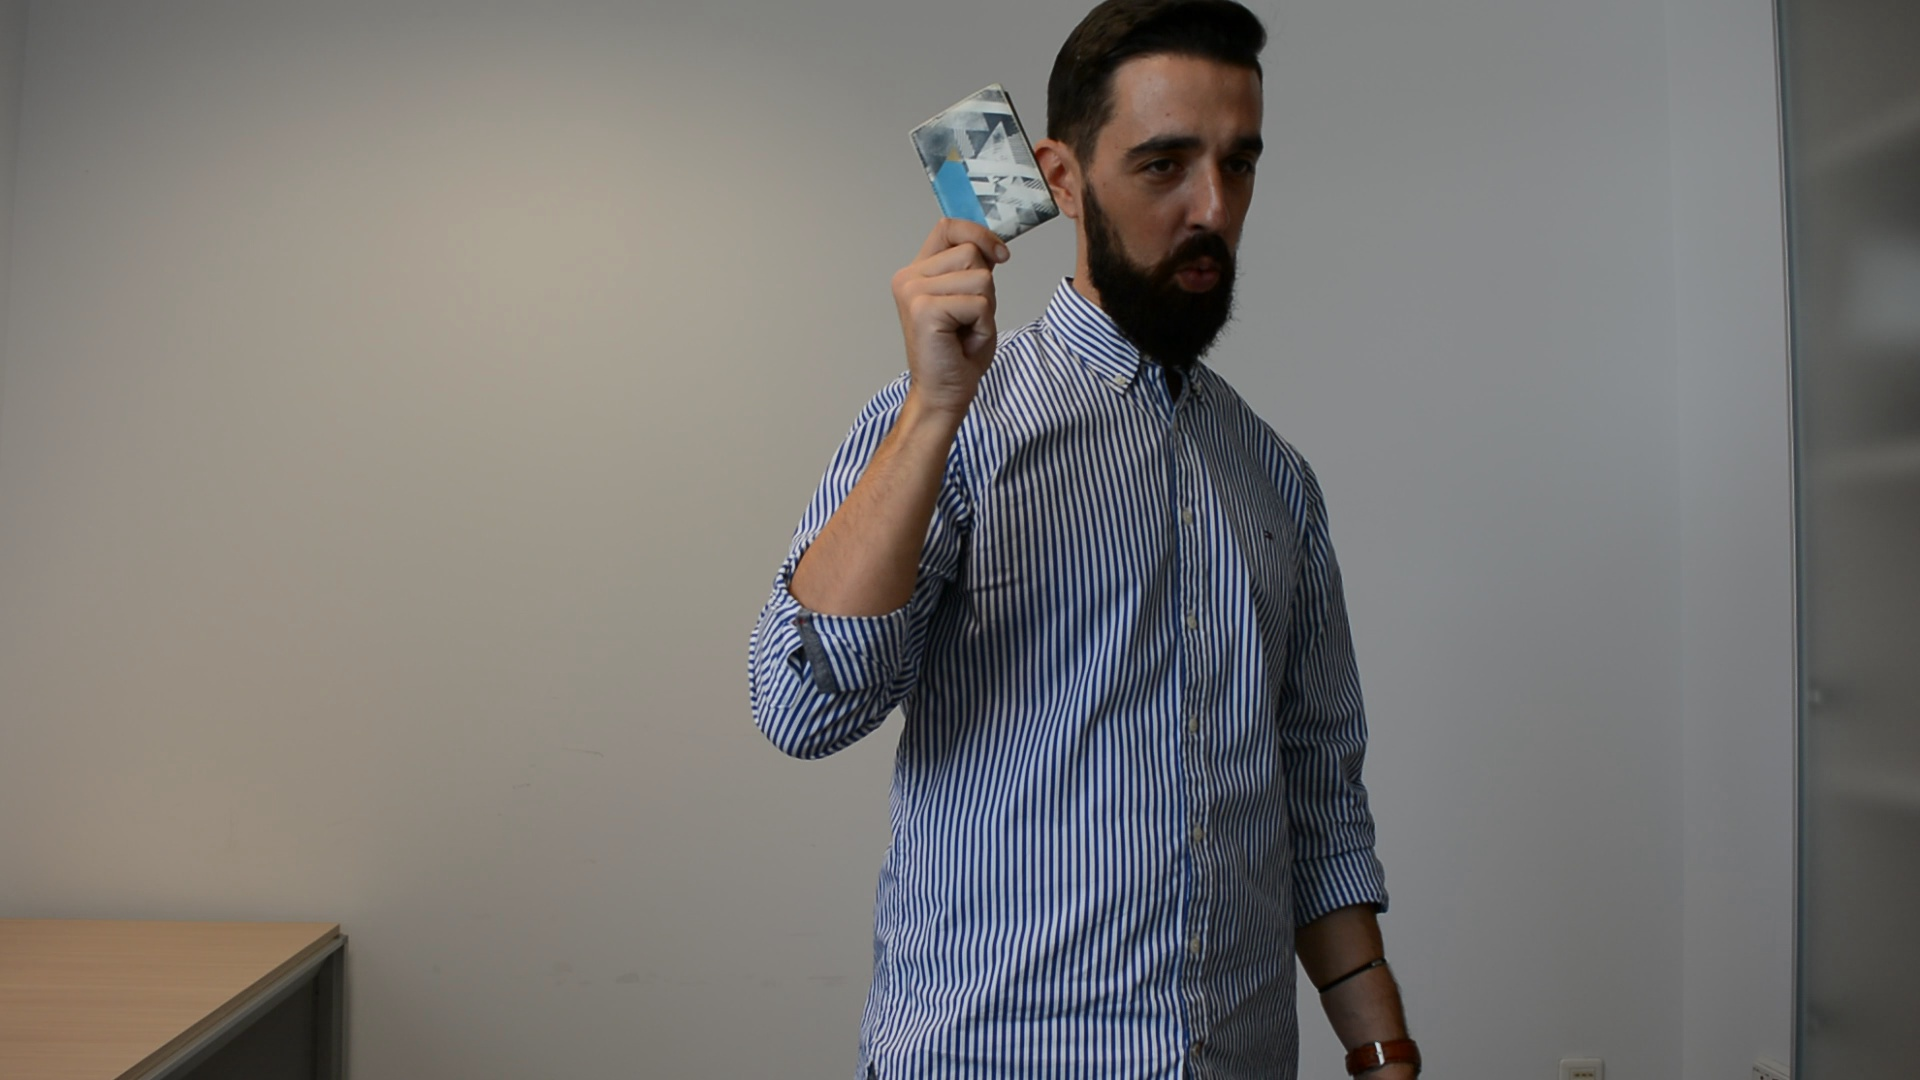monedero: (899, 82, 1063, 247)
